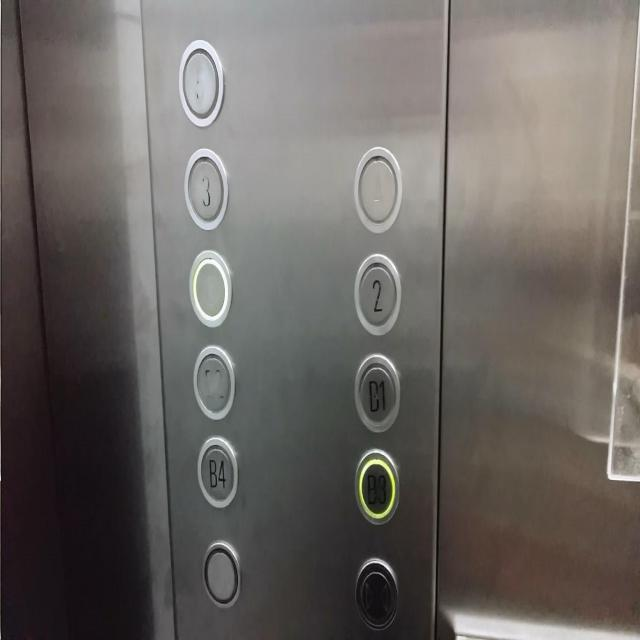2: (354, 253, 401, 334)
3: (184, 147, 228, 228)
4: (353, 146, 402, 232)
B1: (354, 354, 400, 432)
B3: (354, 449, 398, 524)
B4: (196, 436, 238, 506)
blur: (178, 39, 224, 126), (193, 345, 234, 418)
close: (355, 559, 397, 629)
empty: (189, 249, 232, 326), (201, 541, 241, 607)
